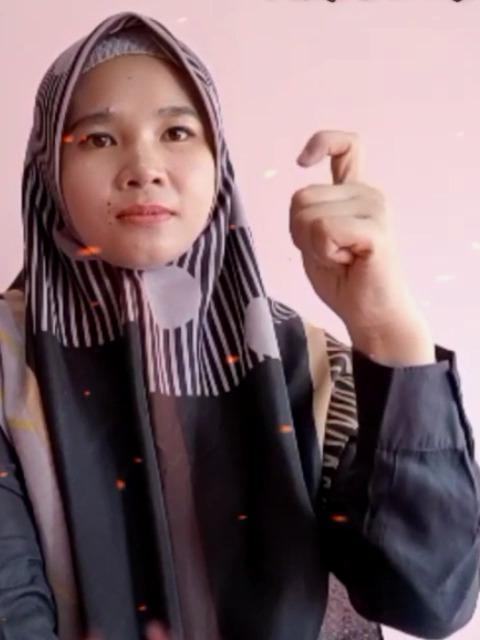X: (280, 117, 414, 320)
